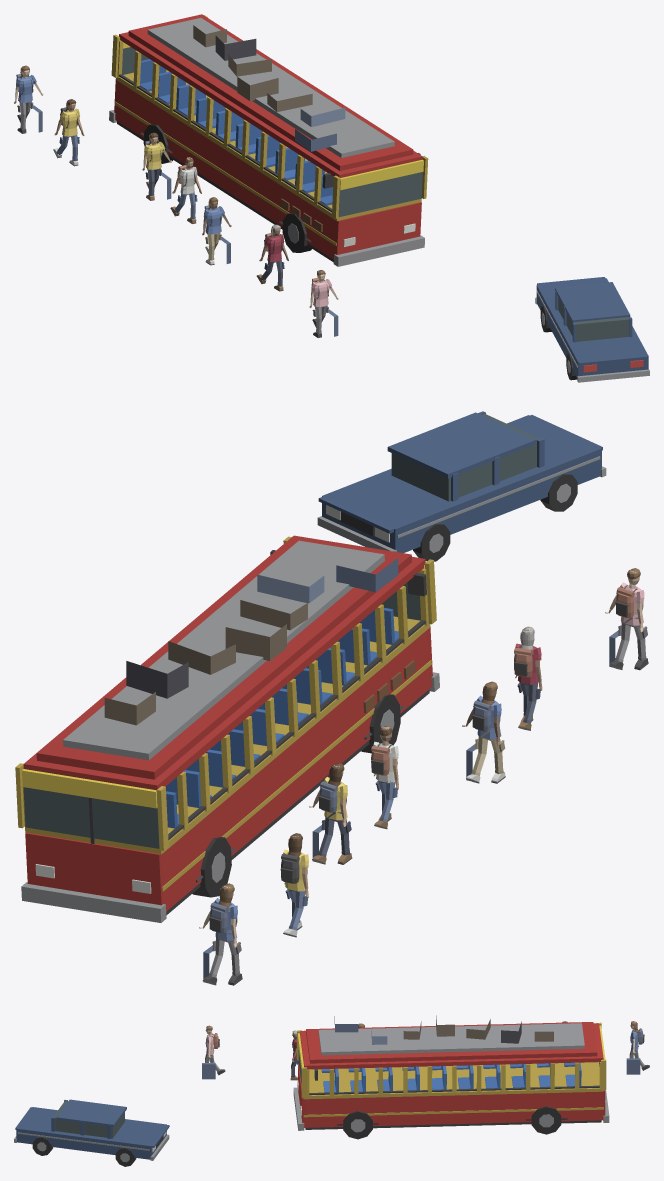
Rendered from bus.glb.
3 renders of one model, top to bottom at view 1: azimuth 30°, elevation 25°; view 2: azimuth 150°, elevation 25°; view 3: azimuth 270°, elevation 25°, orthographic. The views are drawn at different scales.
Parts seen in each view (by area): view 1: bus, walkers; view 2: bus, walkers; view 3: bus, walkers.
Part boxes in pixels (x1,y1,x2,y2): bus: [109, 14, 649, 382]; walkers: [14, 65, 338, 337]; bus: [15, 411, 606, 922]; walkers: [199, 568, 648, 985]; bus: [14, 1015, 609, 1166]; walkers: [202, 1021, 649, 1080].
Size of the model in its own units: 7.89 by 3.63 by 21.22.
